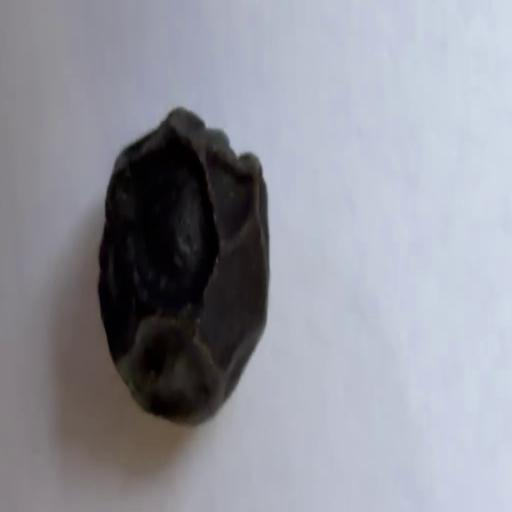Black_pepper: (99, 88, 285, 426)
